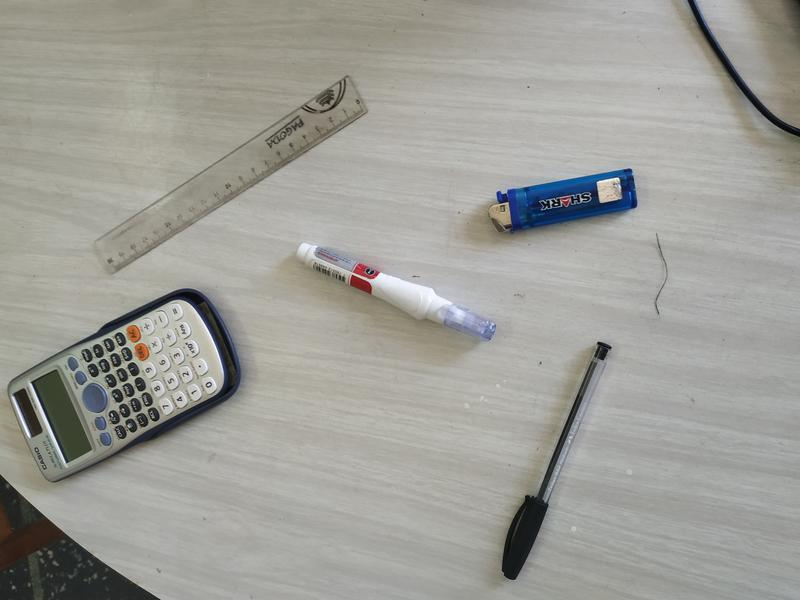calculadora: (5, 289, 232, 484)
corrector: (287, 234, 504, 361)
encendedor: (481, 159, 646, 238)
lapicera: (491, 340, 625, 584)
regla: (82, 65, 371, 281)
